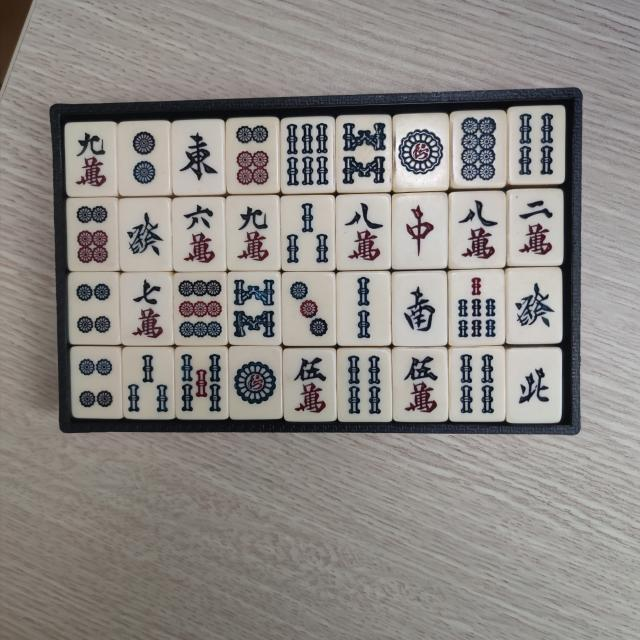hdg: (510, 274, 557, 340), (124, 204, 168, 268)
hdr: (398, 198, 442, 264)
hwe: (176, 124, 222, 190)
hwn: (511, 352, 555, 415)
hws: (398, 275, 443, 340)
sb2: (341, 275, 387, 343)
sb3: (288, 199, 333, 266), (127, 350, 171, 415)
sb4: (514, 111, 562, 181), (455, 352, 502, 419), (342, 353, 386, 419)
sb5: (181, 350, 226, 414)
sb6: (288, 120, 334, 190)
sb7: (454, 274, 502, 342)
sb8: (339, 118, 387, 188), (230, 275, 278, 342)
sc2: (514, 193, 560, 260)
sc5: (398, 352, 444, 417), (288, 353, 334, 417)
sc6: (178, 201, 222, 266)
sc7: (126, 276, 168, 341)
sc8: (454, 196, 502, 264), (339, 197, 386, 264)
sc9: (231, 200, 274, 266), (70, 128, 112, 192)
sd1: (398, 118, 447, 187), (232, 352, 279, 416)
sd2: (122, 125, 166, 192)
sd3: (286, 276, 332, 342)
sd4: (75, 352, 117, 416), (75, 278, 116, 341)
sd6: (232, 122, 276, 189), (72, 203, 112, 268)
sd8: (457, 116, 503, 184)
sd9: (178, 276, 224, 341)
